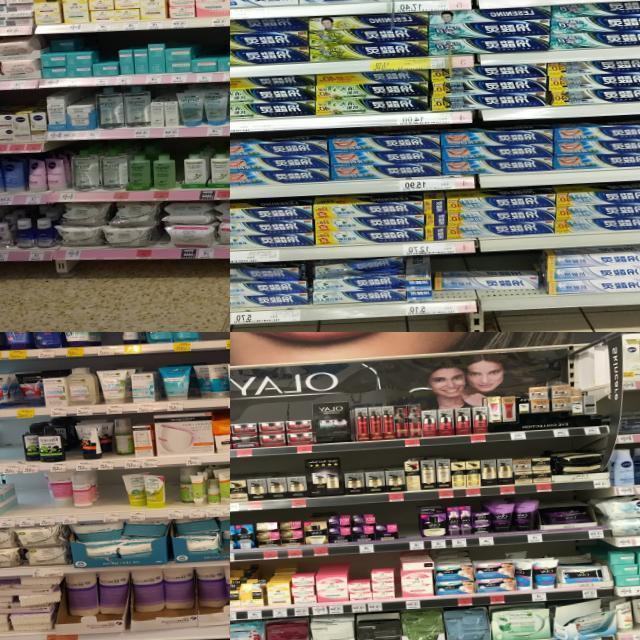empty: (15, 474, 44, 526), (96, 471, 125, 522), (0, 422, 24, 474), (398, 508, 419, 550), (164, 468, 181, 518), (199, 332, 230, 349), (99, 332, 121, 355)
